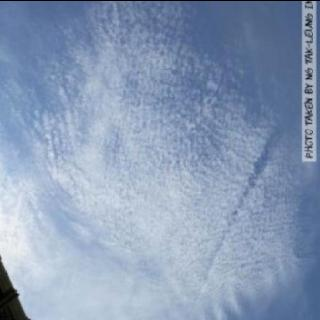Cirrocumulus: (13, 0, 312, 320)
